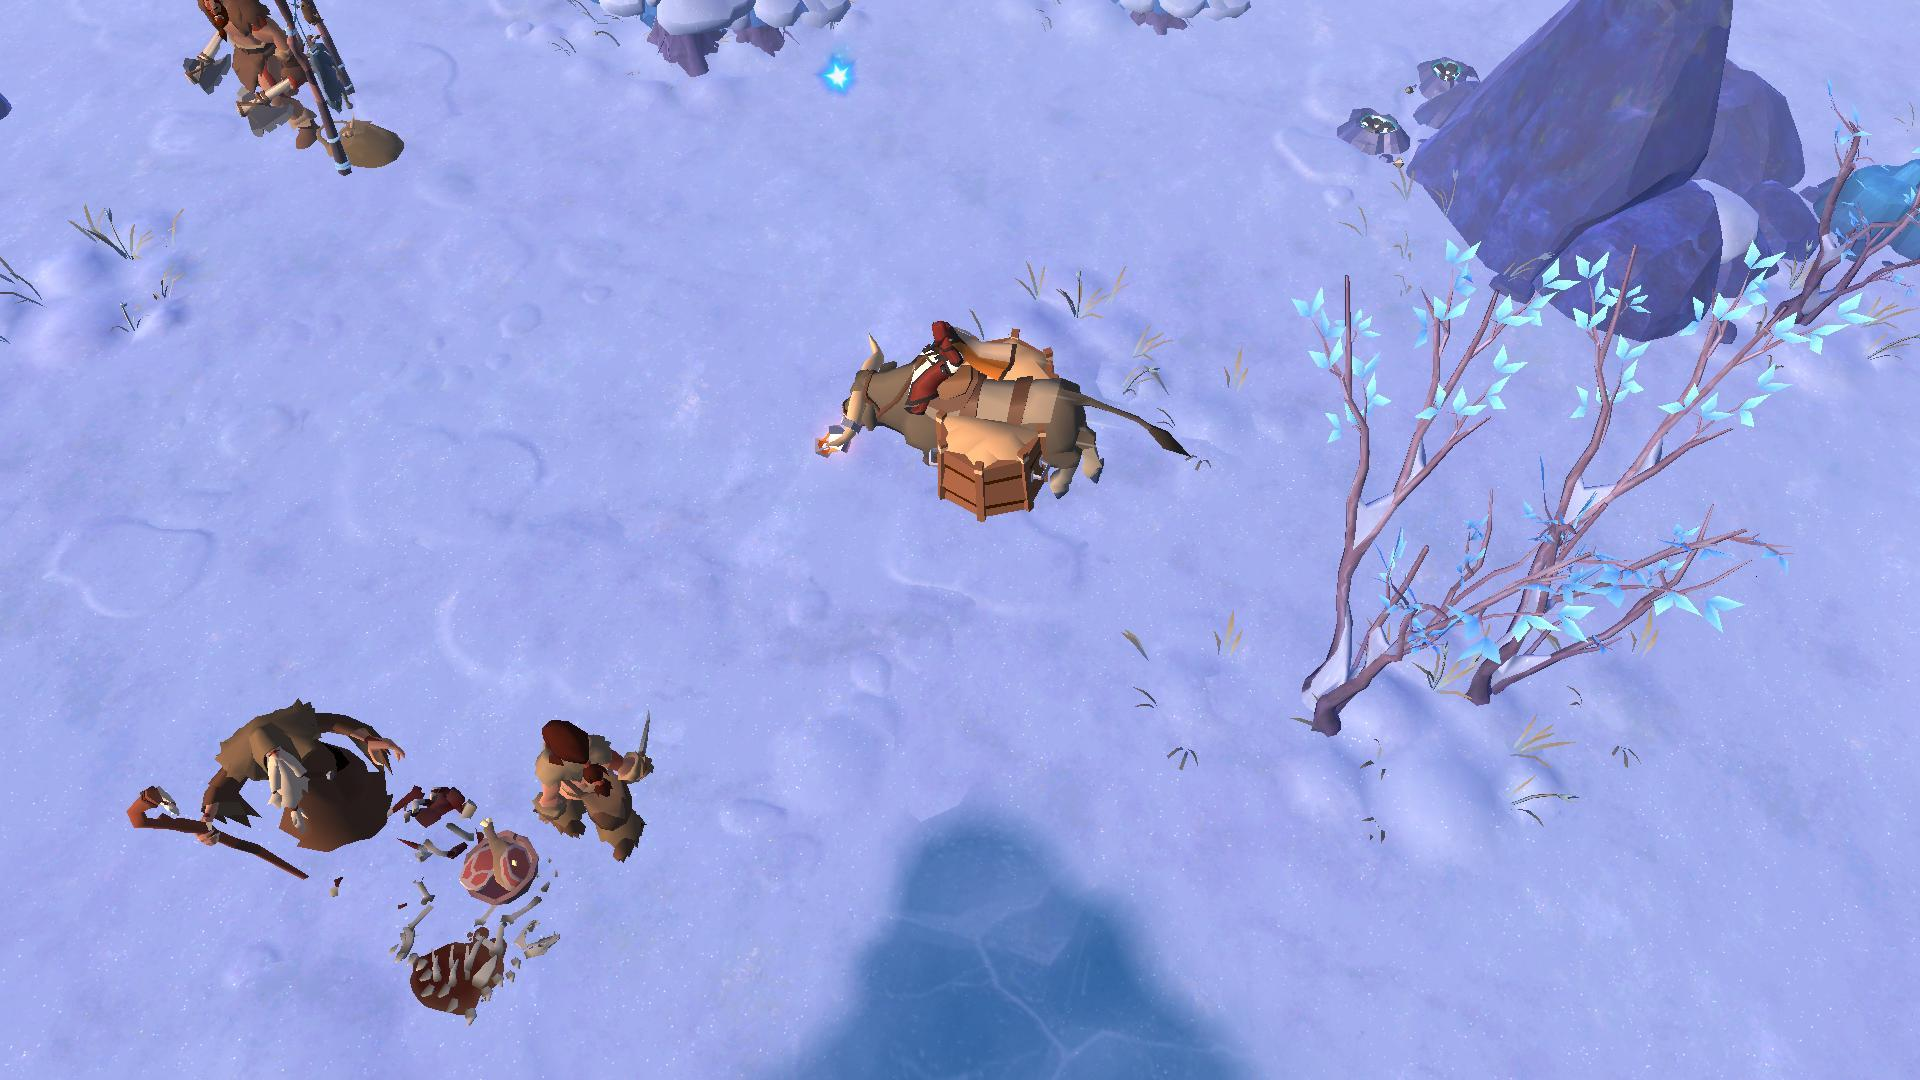enemy_factionKeeper: (181, 699, 398, 878), (527, 707, 673, 872), (177, 0, 301, 150)
rock_t4: (1804, 152, 1920, 265)
